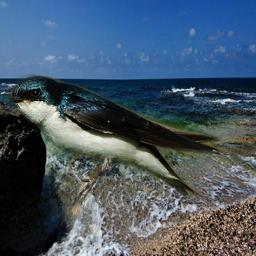Swallow: (6, 74, 230, 207)
